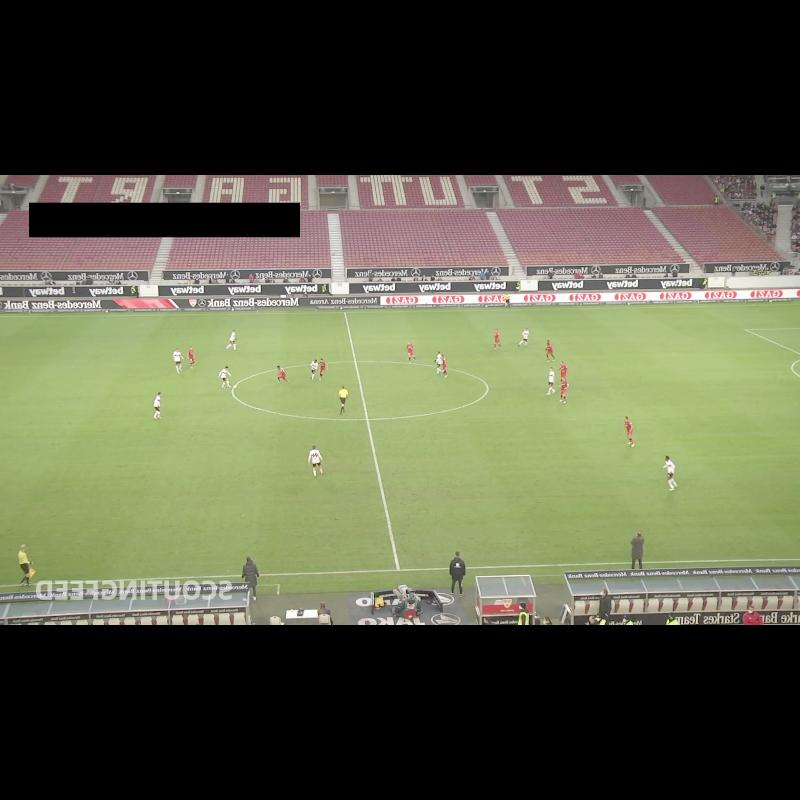cross_recipient_zone: (606, 304, 800, 334), (0, 316, 65, 351), (746, 328, 800, 354)
pitch: (0, 305, 800, 587)
